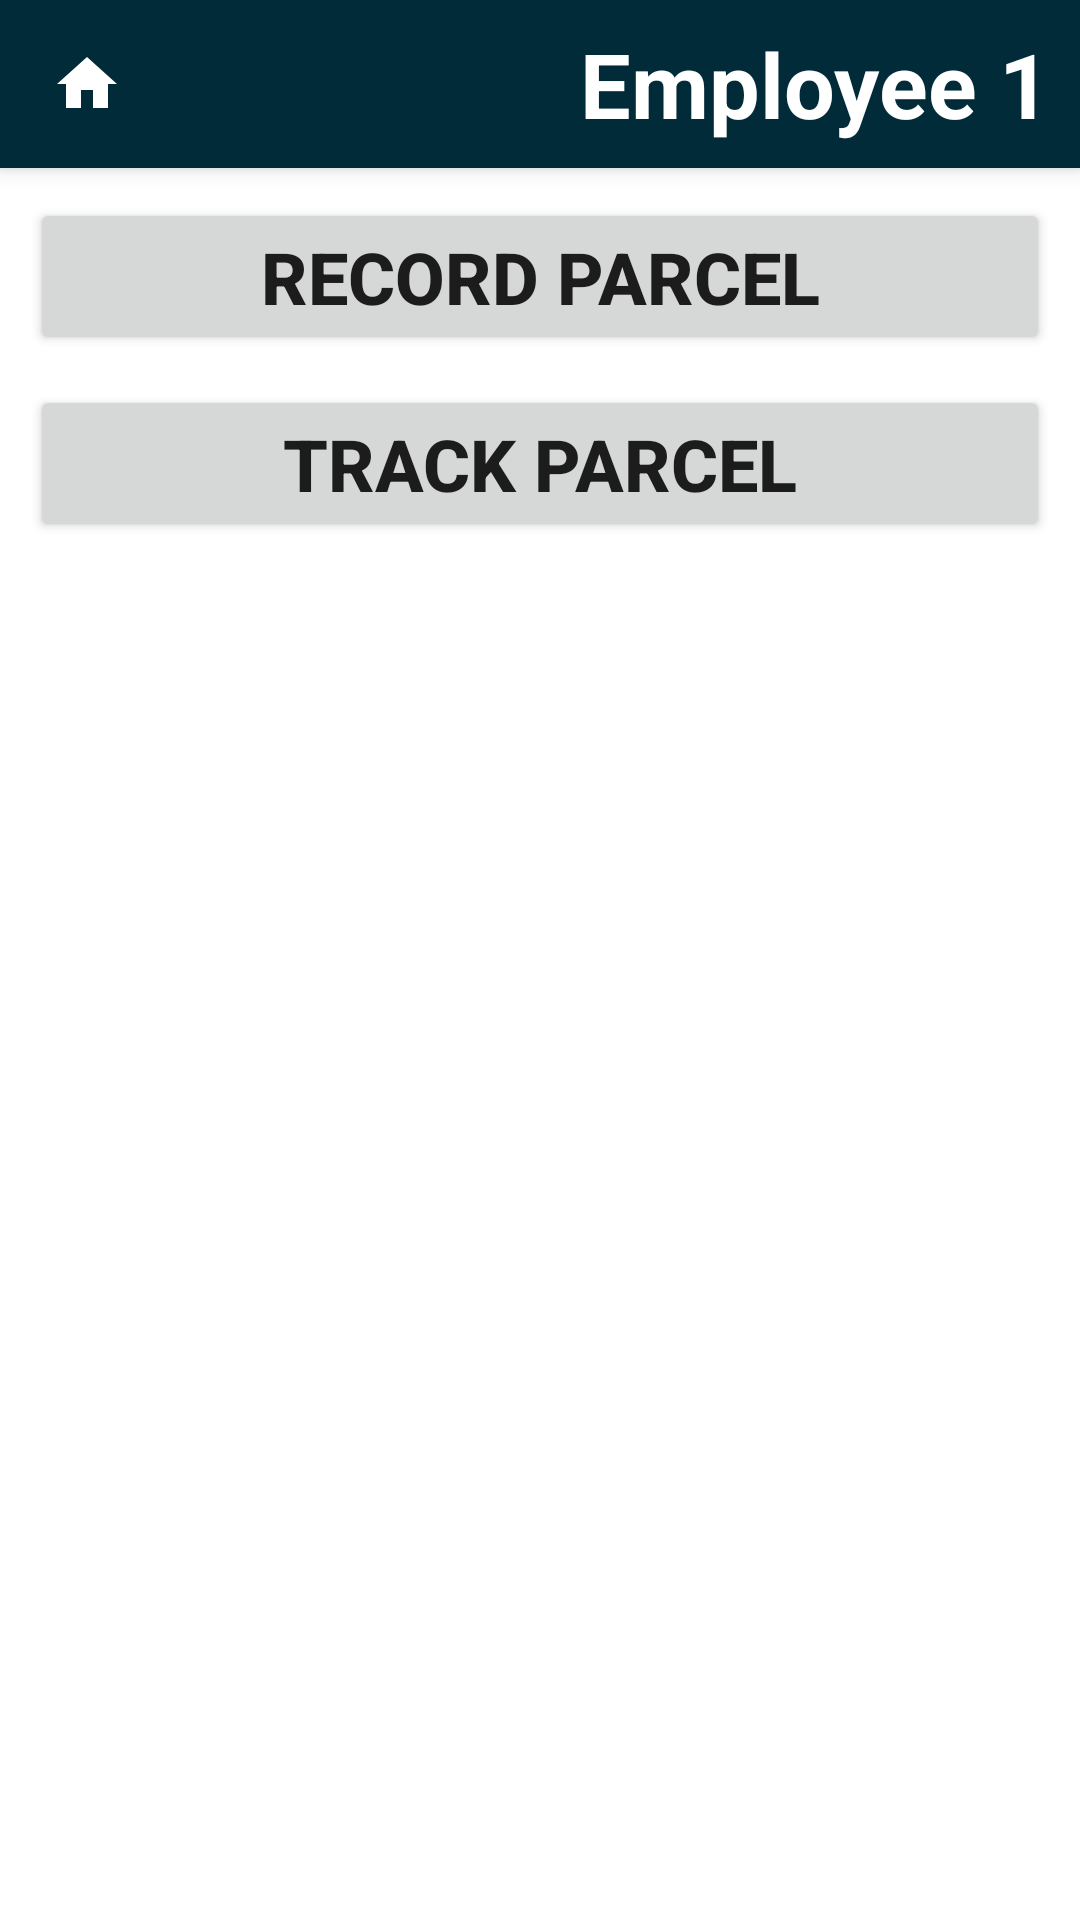

Icons on this 1080px x 1920px Android screen, each with its box as (x1,y1,x2,y2):
Home Button: (57,57,117,108)
